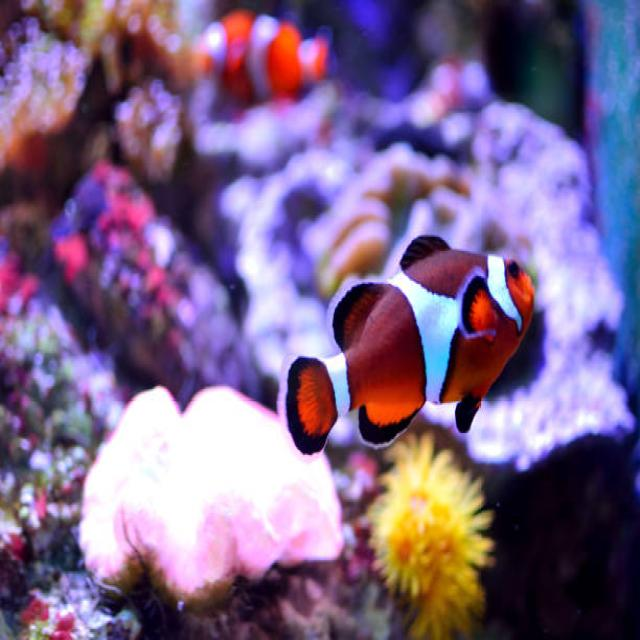ClownFish: (270, 232, 532, 458), (187, 14, 334, 105)
